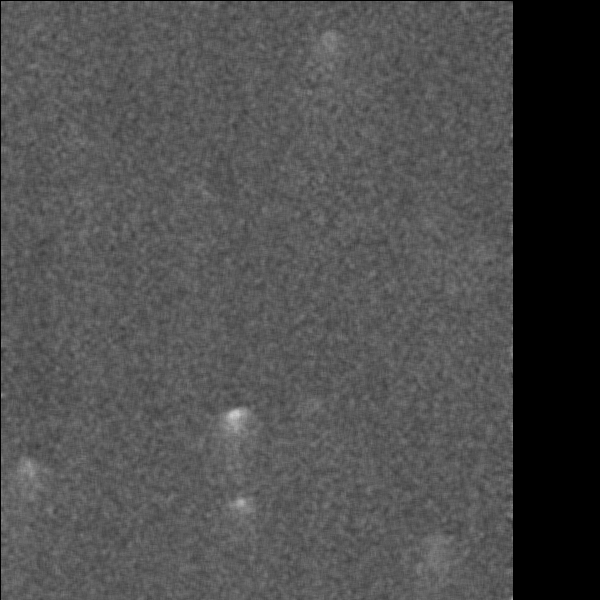spark: (310, 25, 348, 89), (215, 403, 254, 458), (16, 455, 42, 511), (223, 494, 256, 522)
